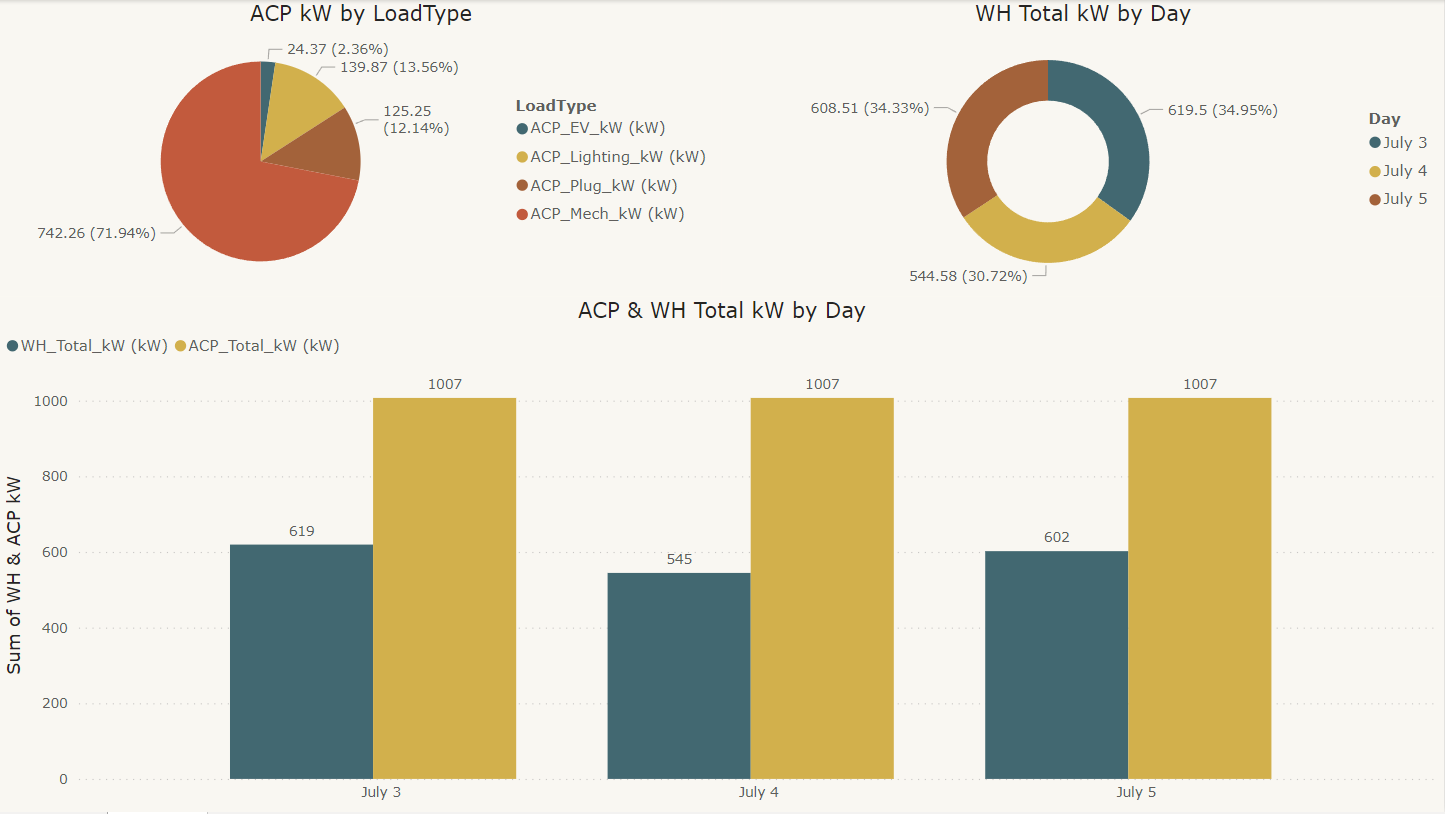

What the dashboard file says about the page in this screenshot:
{"tool":"powerbi","page":{"name":"Dashboard","canvas":[1280,720],"ordinal":0},"visuals":[{"type":"pieChart","title":"ACP kW by LoadType","fields":{"Y":["Sum(ACP_LoadType_kW_Test.ACP_EV_kW (kW))","Sum(ACP_LoadType_kW_Test.ACP_Lighting_kW (kW))","Sum(ACP_LoadType_kW_Test.ACP_Plug_kW (kW))","Sum(ACP_LoadType_kW_Test.ACP_Mech_kW (kW))"]},"box":[0,0,640.2,263.3],"z":0},{"type":"donutChart","title":"WH Total kW by Day","fields":{"Category":["WH_LoadType_kW_Test.Month Day"],"Y":["WH_LoadType_kW_Test.Sum WH Totals"]},"box":[640.2,0,640.2,263.3],"z":1000},{"type":"clusteredColumnChart","title":"ACP & WH Total kW by Day","fields":{"Y":["Sum(WH_LoadType_kW_Test.WH_Total_kW (kW))","Sum(ACP_LoadType_kW_Test.ACP_Total_kW (kW))"],"Category":["WH_LoadType_kW_Test.Month Day"]},"box":[0,263.3,1280.4,456.7],"z":2000}]}

Visuals, with their boxes in screenshot pixels (x1, y1, x2, y2), scaled from the page's 1280x720 canvas onto the 1445x814 screenshot:
"ACP kW by LoadType" pieChart: [0, 0, 723, 298]
"WH Total kW by Day" donutChart: [723, 0, 1444, 298]
"ACP & WH Total kW by Day" clusteredColumnChart: [0, 298, 1444, 813]
